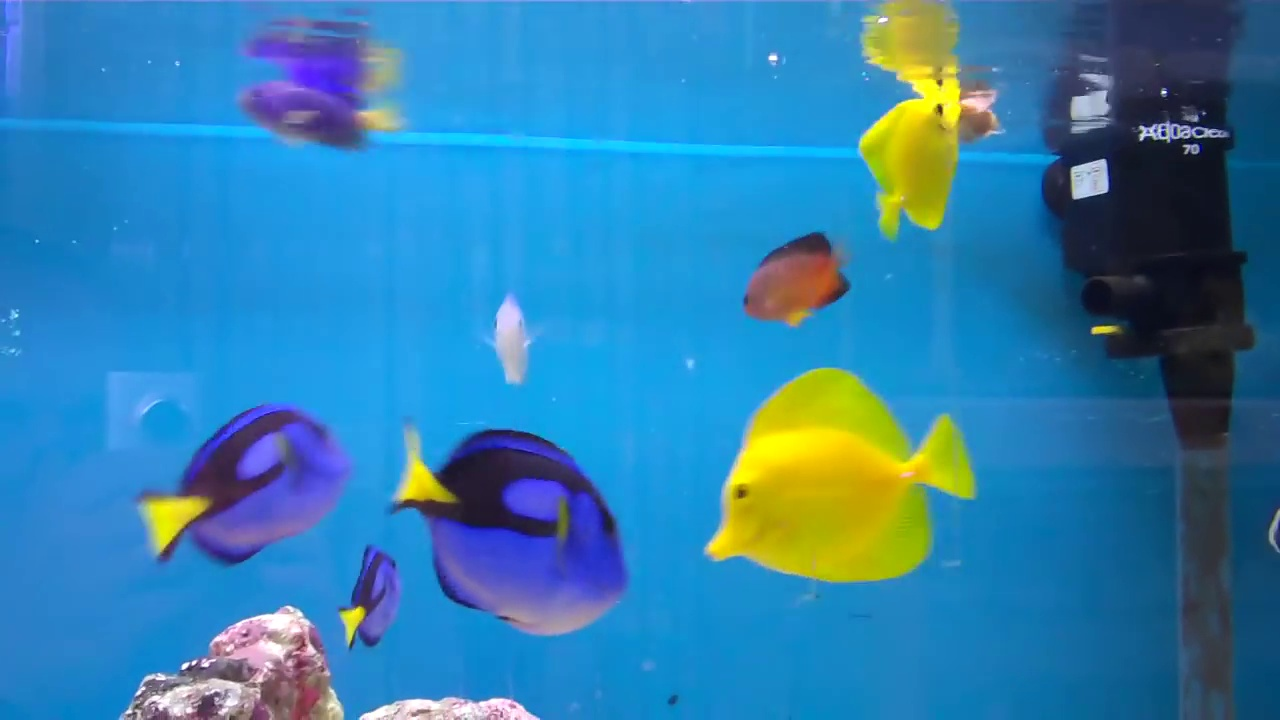blue tang surgeonfish: (399, 412, 633, 655), (120, 398, 359, 577), (326, 542, 409, 667)
saddle butterfly fish: (690, 355, 987, 596), (822, 60, 978, 249)
